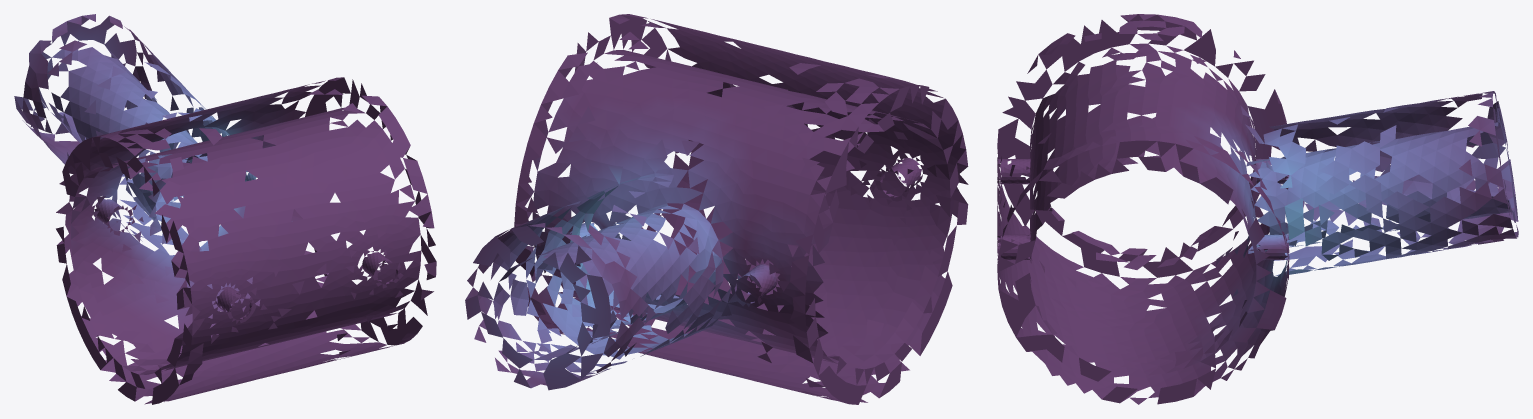
3 views of the same model, side by side, from view 1: azimuth 30°, elevation 25°; view 2: azimuth 150°, elevation 25°; view 3: azimuth 270°, elevation 25° (orthographic). The views are drawn at different scales.
Visible parts, largest first — view 1: geometry_0; view 2: geometry_0; view 3: geometry_0.
Boxes of the visible parts, <box> form: geometry_0: <box>14,14,436,404</box>; geometry_0: <box>465,14,968,404</box>; geometry_0: <box>997,14,1518,404</box>.
Size of the model in its own units: 40 by 39 by 69.66.
